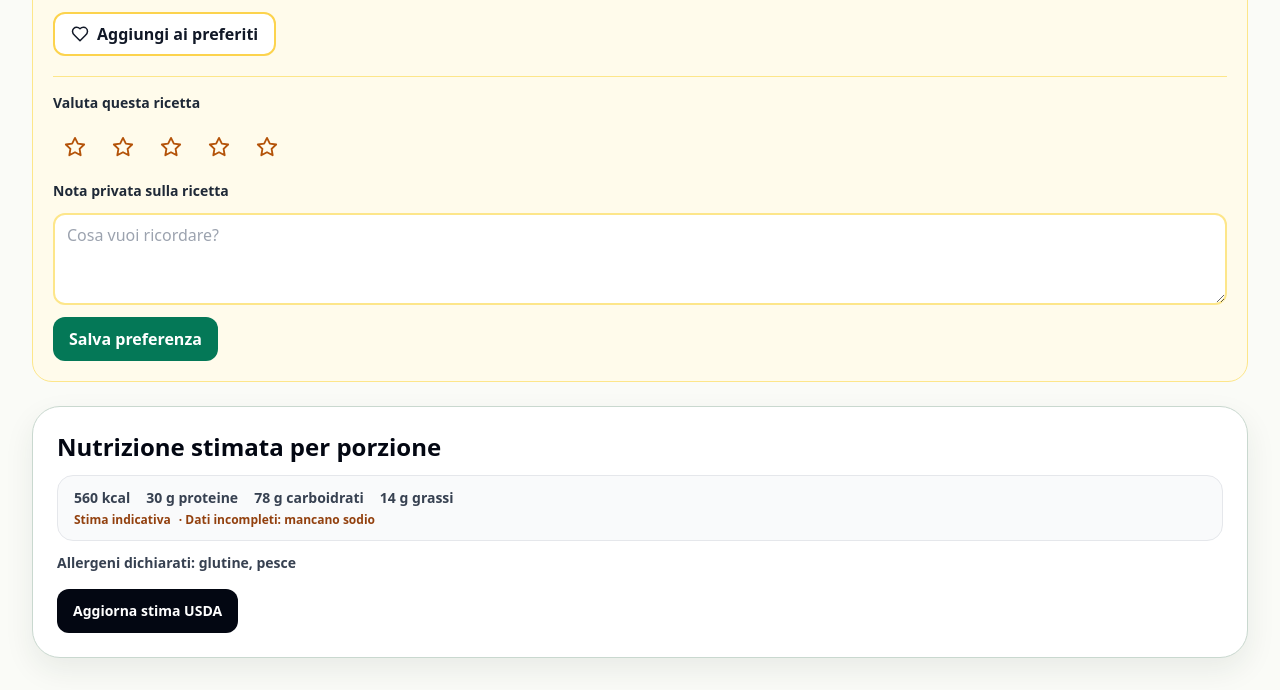
Test case: RecipeDetailPage integration › lets a verified user replace the catalog estimate with a successful USDA response
The width and height of the screenshot is (1280, 690).
(page scrolled)
Click the button "Aggiorna stima USDA" at coordinates (148, 611), box [57,589,238,633]
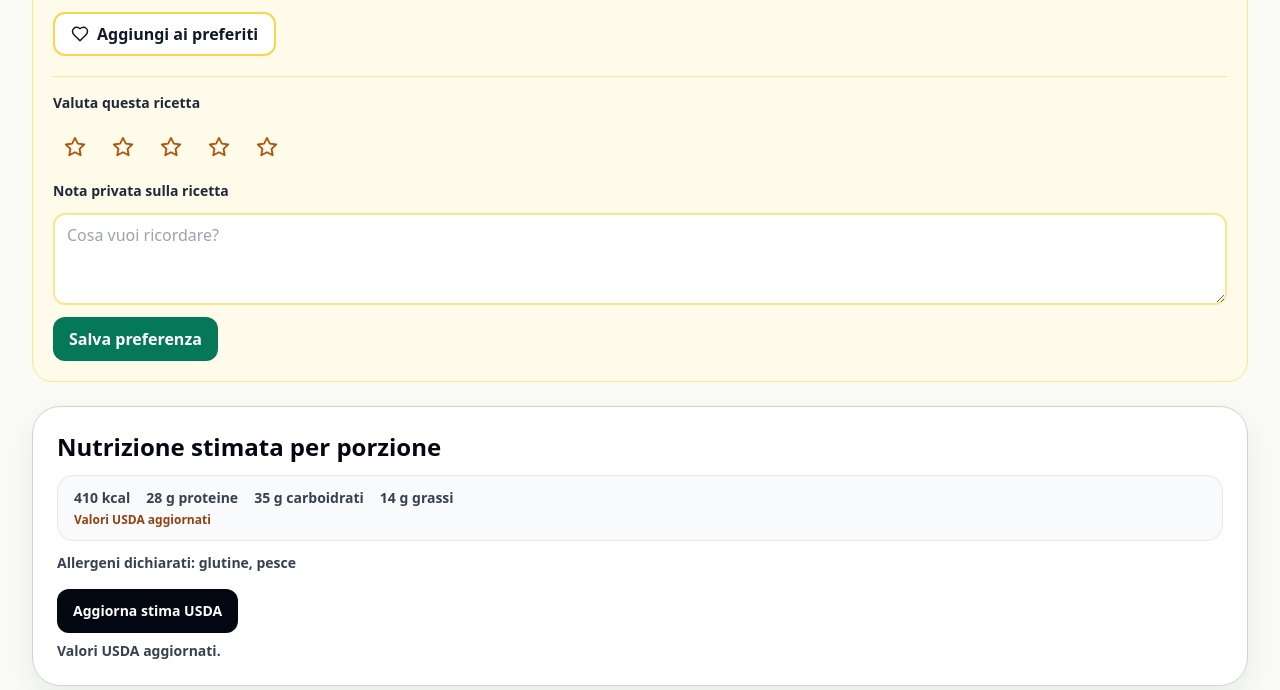
Now the text "Valori USDA aggiornati" is shown, box [74,512,211,528]
